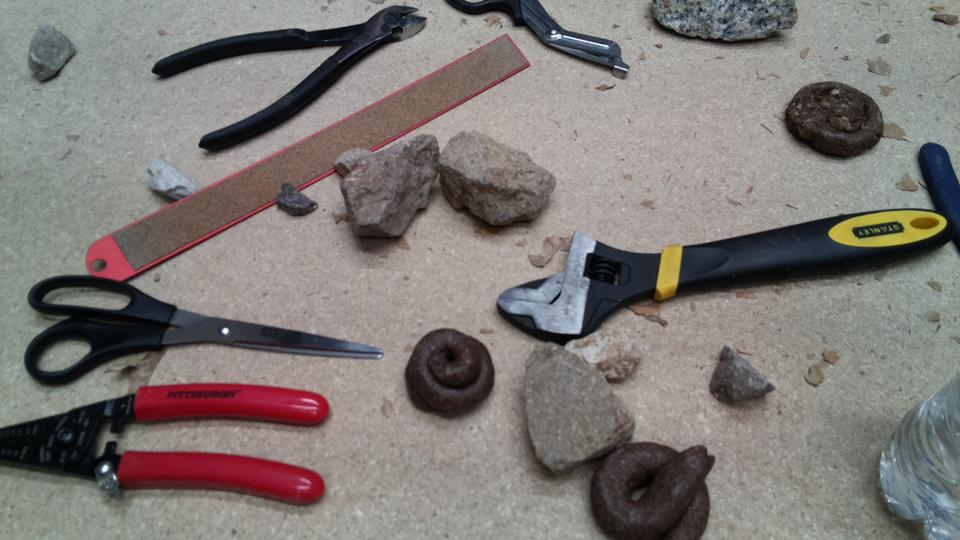poop: (590, 438, 715, 540), (402, 323, 498, 418), (782, 77, 887, 163)
